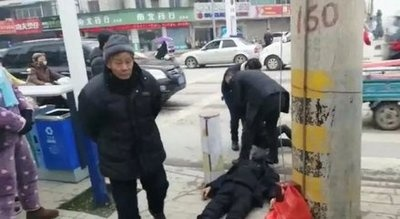falling: (180, 145, 291, 218)
